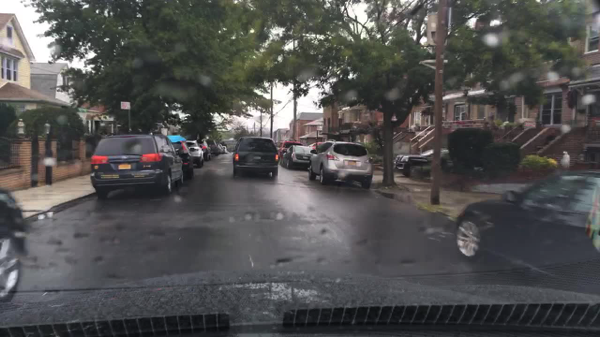car: (455, 169, 599, 294), (90, 135, 183, 195), (0, 190, 27, 304), (308, 142, 372, 189), (394, 148, 454, 180), (232, 137, 279, 176), (171, 141, 194, 178), (281, 145, 312, 170), (278, 141, 301, 159), (187, 141, 202, 167), (200, 141, 211, 160), (207, 140, 219, 155), (310, 143, 326, 148), (219, 145, 225, 153)
traffic sign: (120, 103, 132, 110)
